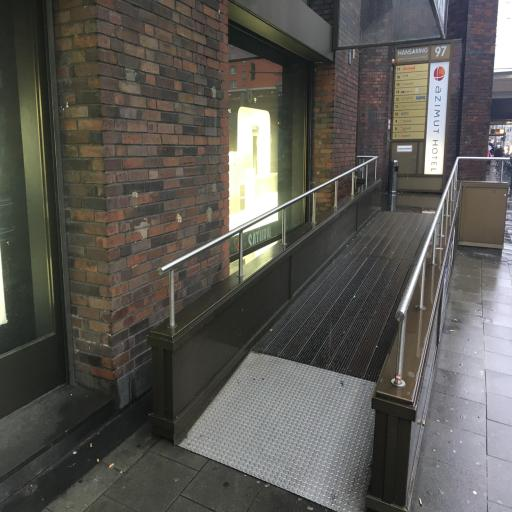ramp: (178, 207, 441, 512)
